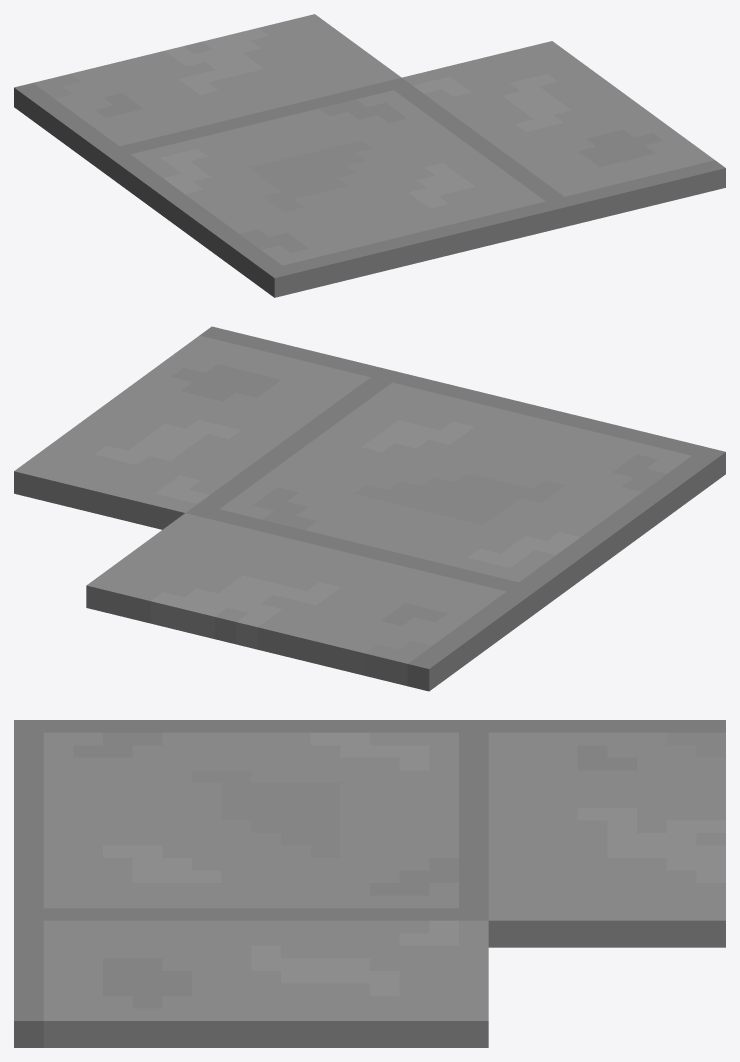
Rendered from sidewalk_crossing.gltf.
3 renders of one model, top to bottom at view 1: azimuth 30°, elevation 25°; view 2: azimuth 150°, elevation 25°; view 3: azimuth 270°, elevation 25°, orthographic. The views are drawn at different scales.
Visible parts, largest first — view 1: Layer.1; view 2: Layer.1; view 3: Layer.1.
Part boxes in pixels (x1,y1,x2,y2): Layer.1: (14, 14, 725, 297); Layer.1: (14, 326, 725, 691); Layer.1: (14, 720, 725, 1047).
Bounding box in the file's own units: 24 × 1 × 24.
Materials: 1 (1 with a texture image).
